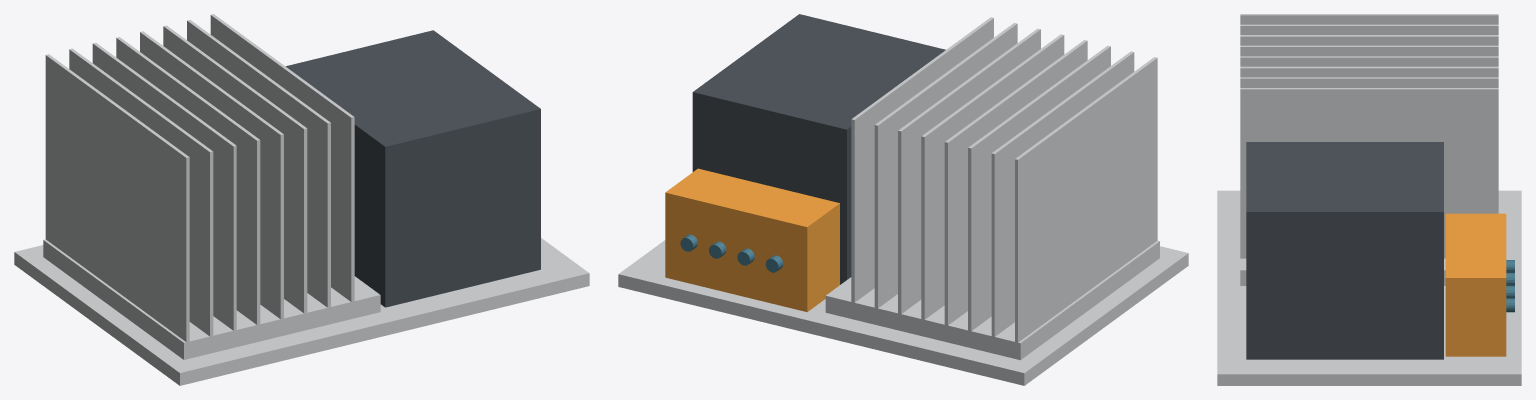
File: concept-power-subassembly.glb
3 views of the same model, side by side, from view 1: azimuth 30°, elevation 25°; view 2: azimuth 150°, elevation 25°; view 3: azimuth 270°, elevation 25° (orthographic). The views are drawn at different scales.
Parts seen in each view (by area): view 1: TransformerCore, Fin_0, BasePlate, HeatSinkBase, Fin_1, Fin_3, Fin_2, Fin_7, Fin_5, Fin_6, Fin_4; view 2: TransformerCore, Fin_0, ConnectorBlock, BasePlate, HeatSinkBase, Fin_1, Fin_6, Fin_3, Fin_4, Fin_5, Fin_2, Fin_7; view 3: TransformerCore, Fin_7, BasePlate, ConnectorBlock, Fin_3, Fin_5, Fin_0, Fin_1, Fin_2, Fin_4, Fin_6.
Part boxes in pixels (x1,y1,x2,y2): TransformerCore: [286, 30, 540, 307]; Fin_0: [45, 54, 189, 359]; BasePlate: [14, 238, 589, 385]; HeatSinkBase: [43, 239, 380, 359]; Fin_1: [69, 48, 213, 353]; Fin_3: [116, 37, 260, 341]; Fin_2: [92, 43, 236, 347]; Fin_7: [210, 14, 354, 318]; Fin_5: [163, 25, 307, 330]; Fin_6: [187, 20, 330, 324]; Fin_4: [140, 31, 283, 336]; TransformerCore: [692, 14, 945, 284]; Fin_0: [1015, 57, 1157, 359]; ConnectorBlock: [665, 168, 839, 311]; BasePlate: [618, 240, 1188, 385]; HeatSinkBase: [825, 240, 1159, 360]; Fin_1: [991, 51, 1134, 353]; Fin_6: [874, 23, 1017, 325]; Fin_3: [944, 40, 1087, 342]; Fin_4: [921, 34, 1064, 336]; Fin_5: [898, 28, 1040, 330]; Fin_2: [968, 45, 1110, 347]; Fin_7: [851, 17, 993, 319]; TransformerCore: [1246, 142, 1443, 359]; Fin_7: [1240, 88, 1498, 258]; BasePlate: [1217, 190, 1521, 385]; ConnectorBlock: [1445, 213, 1506, 356]; Fin_3: [1240, 45, 1498, 56]; Fin_5: [1240, 66, 1498, 77]; Fin_0: [1240, 14, 1498, 24]; Fin_1: [1240, 24, 1498, 34]; Fin_2: [1240, 35, 1498, 45]; Fin_4: [1240, 56, 1498, 66]; Fin_6: [1240, 77, 1498, 87].
Bounding box in the file's own units: 0.5 × 0.25 × 0.35.
